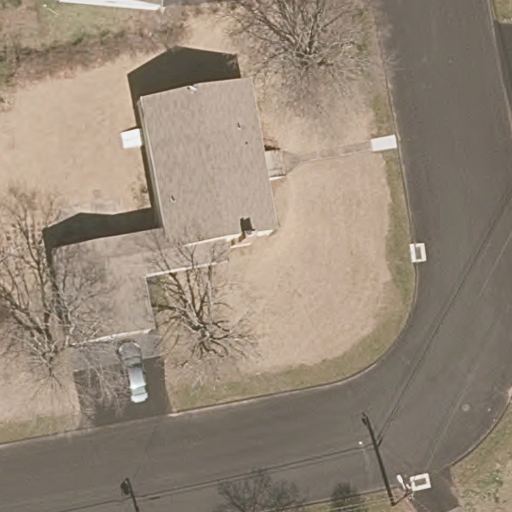DT: (391, 473, 415, 512)
